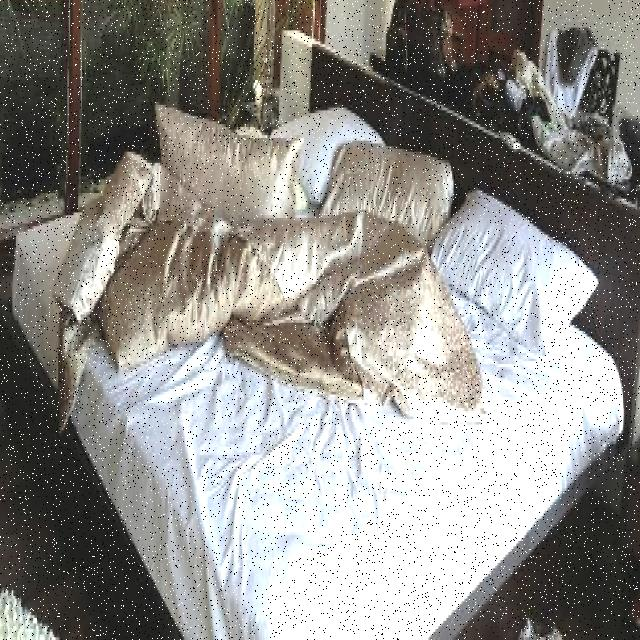bed: (18, 68, 615, 584)
